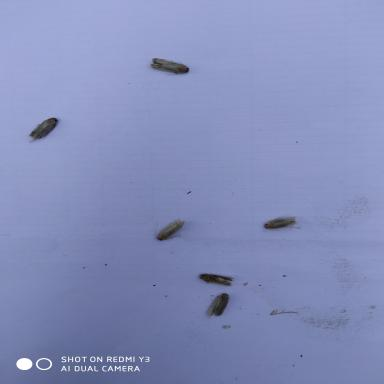pbw: (146, 214, 191, 246), (144, 54, 194, 78), (23, 114, 62, 144), (200, 291, 235, 322), (260, 213, 308, 233), (194, 269, 240, 289)
